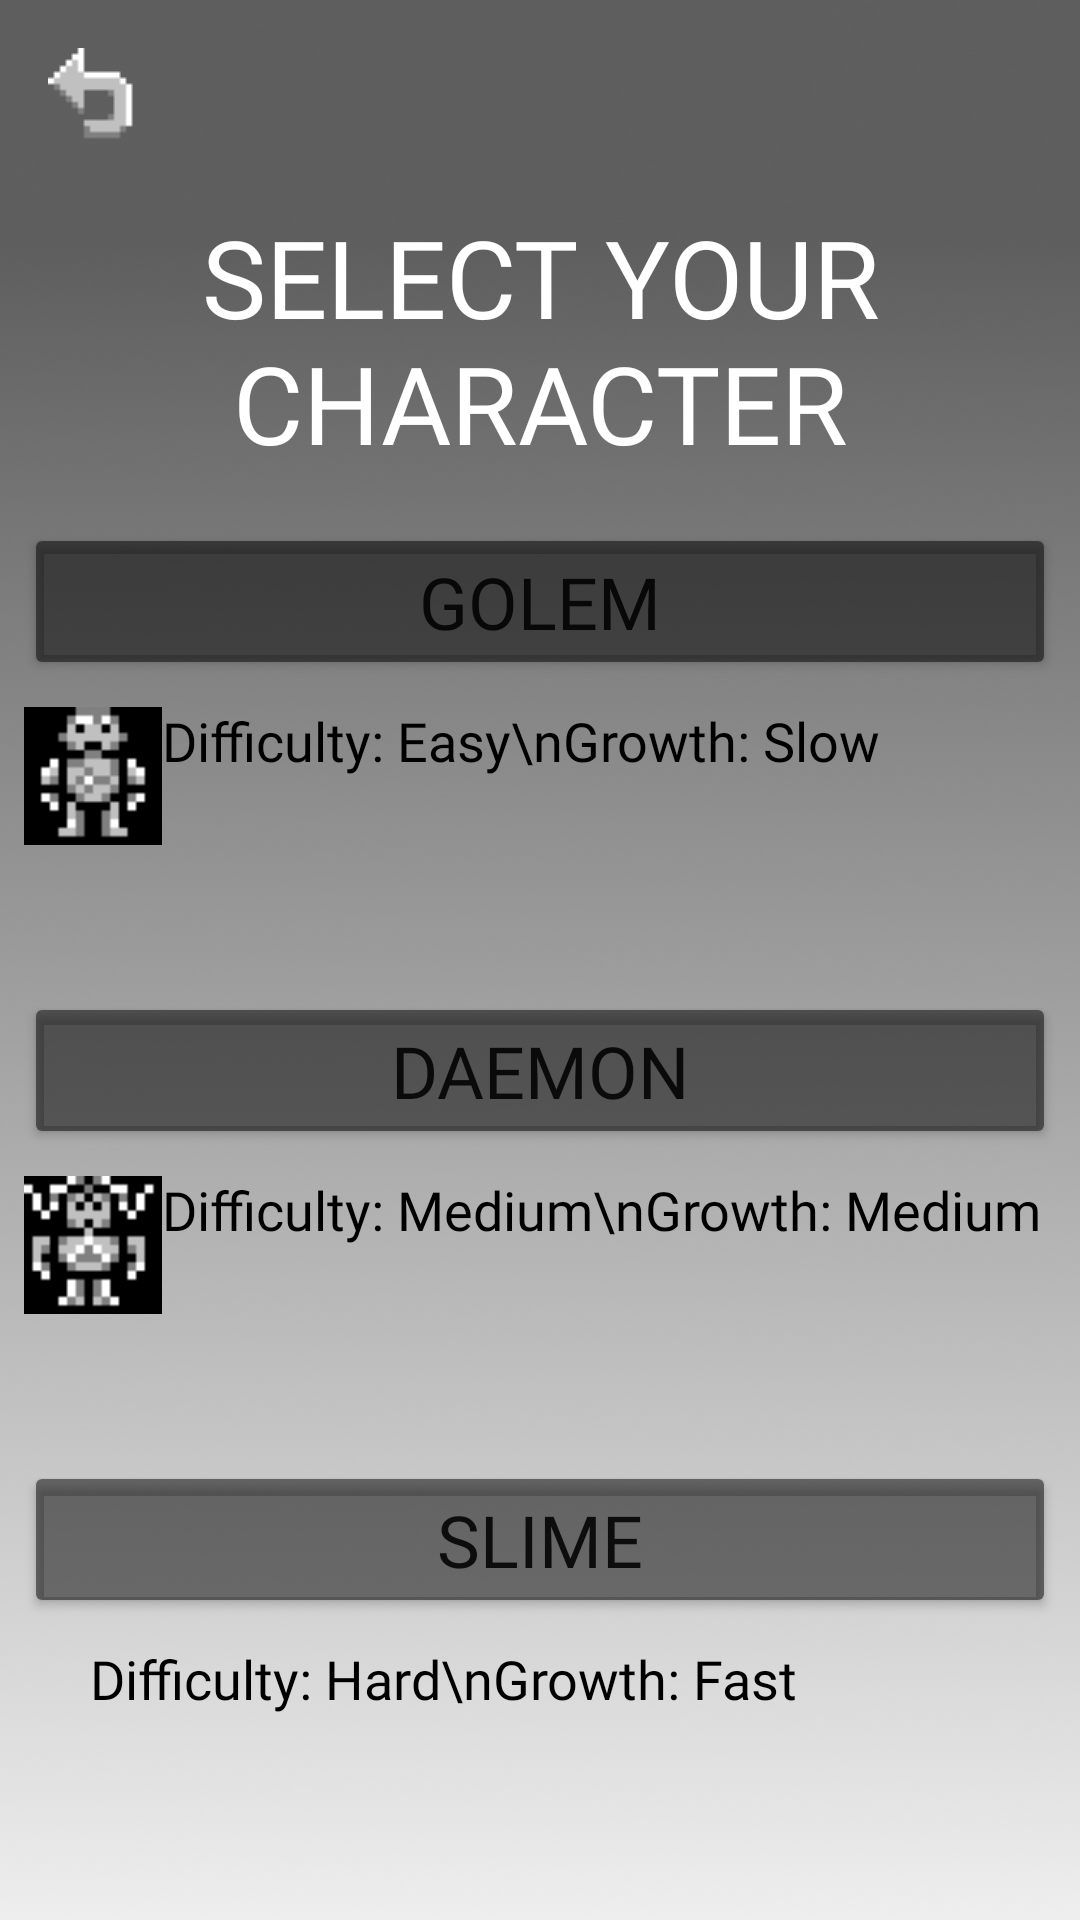

Where icons sit on this 1080*1920 app screen, as {"x1": x1, "y1": y1, "x2": x2, "y2": y2}:
ui back arrow: {"x1": 48, "y1": 48, "x2": 133, "y2": 137}
